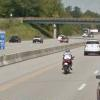Motorcycle: (58, 48, 75, 75)
